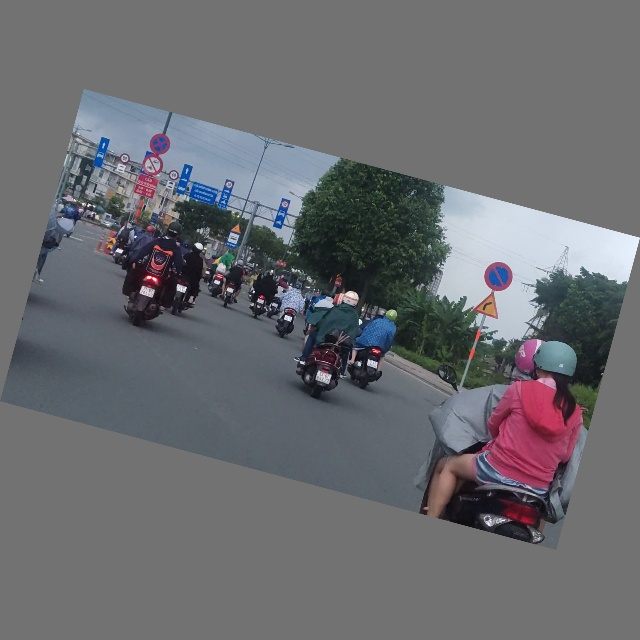I.434a: (224, 231, 241, 250)
P.111: (140, 152, 166, 179)
P.127*50: (280, 200, 290, 209), (225, 180, 234, 190)
P.127*60: (167, 169, 180, 182)
P.127*80: (119, 153, 131, 165)
P.130: (147, 130, 173, 158)
P.131a: (479, 258, 516, 296)
S.505a*Xe tai va cong: (165, 180, 176, 191)
W.201b: (471, 288, 505, 320), (230, 222, 245, 236)
